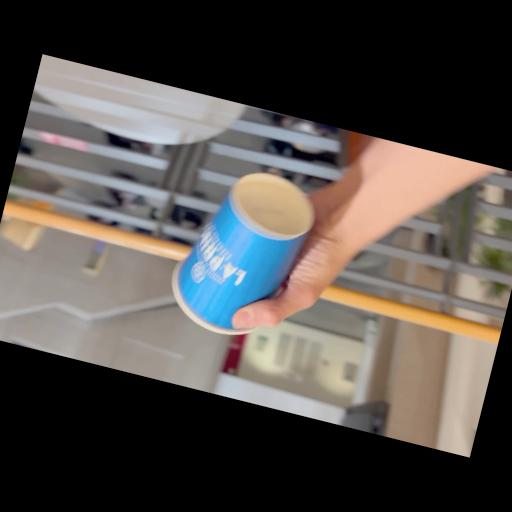lp_paper_cup: (159, 153, 334, 354)
